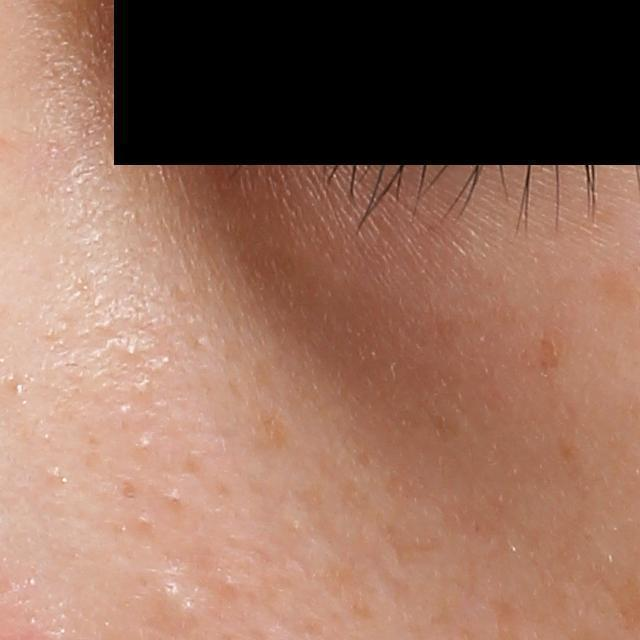comedo: (158, 483, 190, 510), (117, 337, 149, 364), (133, 427, 161, 457), (129, 506, 160, 533), (113, 395, 137, 422), (216, 568, 236, 599), (132, 376, 157, 399), (158, 581, 185, 602)
melasma: (252, 406, 296, 454)
